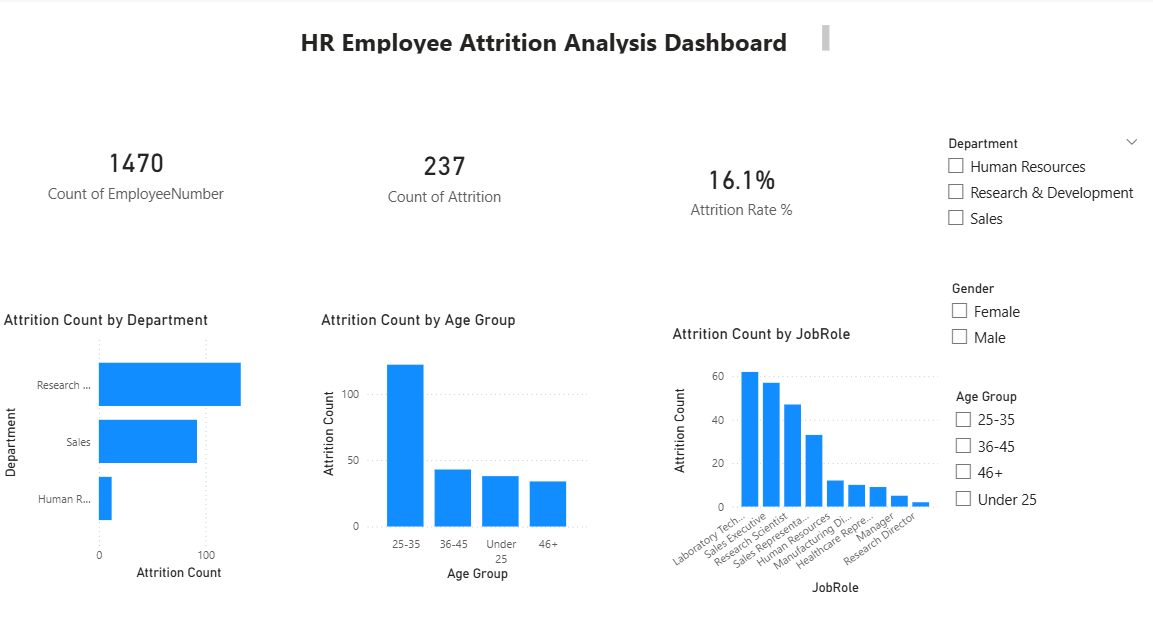

Layout of this report page (visuals, bound fields, positions):
{"tool":"powerbi","page":{"name":"Page 1","canvas":[1280,720],"ordinal":0},"visuals":[{"type":"card","fields":{"Values":["CountNonNull(WA_Fn-UseC_-HR-Employee-Attrition.EmployeeNumber)"]},"box":[0,41.2,300.5,300.5],"z":1000},{"type":"card","fields":{"Values":["CountNonNull(WA_Fn-UseC_-HR-Employee-Attrition.Attrition)"]},"box":[338.9,43.9,300.5,300.5],"z":2000},{"type":"card","fields":{"Values":["WA_Fn-UseC_-HR-Employee-Attrition.Attrition Rate %"]},"box":[664.2,59,301.9,300.5],"z":2001},{"type":"clusteredBarChart","fields":{"Category":["WA_Fn-UseC_-HR-Employee-Attrition.Department"],"Y":["WA_Fn-UseC_-HR-Employee-Attrition.Attrition Count"]},"box":[0,344.4,300.5,300.5],"z":2002},{"type":"clusteredColumnChart","fields":{"Category":["WA_Fn-UseC_-HR-Employee-Attrition.Age Group"],"Y":["WA_Fn-UseC_-HR-Employee-Attrition.Attrition Count"]},"box":[348.5,344.4,301.9,301.9],"z":2003},{"type":"clusteredColumnChart","fields":{"Category":["WA_Fn-UseC_-HR-Employee-Attrition.JobRole"],"Y":["WA_Fn-UseC_-HR-Employee-Attrition.Attrition Count"]},"box":[734.1,359.5,301.9,301.9],"z":2004},{"type":"slicer","fields":{"Values":["WA_Fn-UseC_-HR-Employee-Attrition.Department"]},"box":[1029.2,146.8,233.3,126.2],"z":2005},{"type":"slicer","fields":{"Values":["WA_Fn-UseC_-HR-Employee-Attrition.Gender"]},"box":[1033.3,306,233.3,107],"z":2006},{"type":"slicer","fields":{"Values":["WA_Fn-UseC_-HR-Employee-Attrition.Age Group"]},"box":[1037.4,425.4,226.4,168.8],"z":2007},{"type":"textbox","box":[325.2,26.1,591.4,41.2],"z":2008}]}

Visuals, with their boxes in screenshot pixels (x1, y1, x2, y2), scaled from the page's 1280x720 canvas onto the 1153x636 screenshot:
card - CountNonNull(WA_Fn-UseC_-HR-Employee-Attrition.EmployeeNumber): [left=0, top=36, right=271, bottom=302]
card - CountNonNull(WA_Fn-UseC_-HR-Employee-Attrition.Attrition): [left=305, top=39, right=576, bottom=304]
card - WA_Fn-UseC_-HR-Employee-Attrition.Attrition Rate %: [left=598, top=52, right=870, bottom=318]
clusteredBarChart - WA_Fn-UseC_-HR-Employee-Attrition.Department x WA_Fn-UseC_-HR-Employee-Attrition.Attrition Count: [left=0, top=304, right=271, bottom=570]
clusteredColumnChart - WA_Fn-UseC_-HR-Employee-Attrition.Age Group x WA_Fn-UseC_-HR-Employee-Attrition.Attrition Count: [left=314, top=304, right=586, bottom=571]
clusteredColumnChart - WA_Fn-UseC_-HR-Employee-Attrition.JobRole x WA_Fn-UseC_-HR-Employee-Attrition.Attrition Count: [left=661, top=318, right=933, bottom=584]
slicer - WA_Fn-UseC_-HR-Employee-Attrition.Department: [left=927, top=130, right=1137, bottom=241]
slicer - WA_Fn-UseC_-HR-Employee-Attrition.Gender: [left=931, top=270, right=1141, bottom=365]
slicer - WA_Fn-UseC_-HR-Employee-Attrition.Age Group: [left=934, top=376, right=1138, bottom=525]
textbox: [left=293, top=23, right=826, bottom=59]
